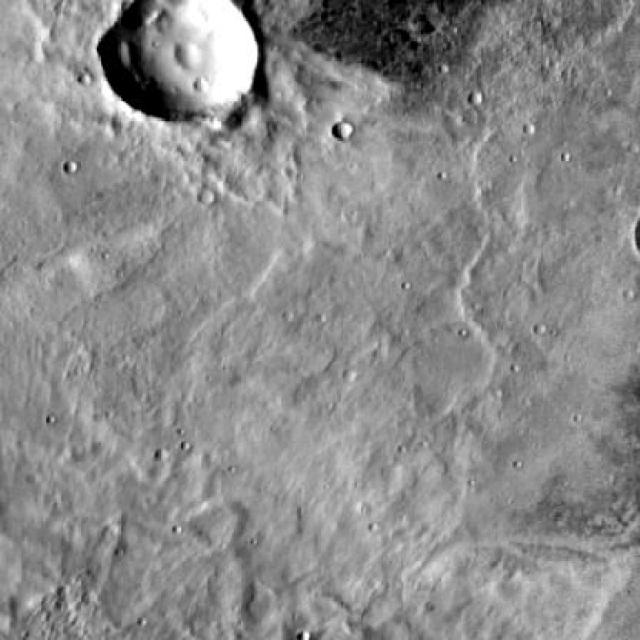crater: (105, 0, 261, 128), (331, 121, 351, 139), (210, 187, 228, 204)
